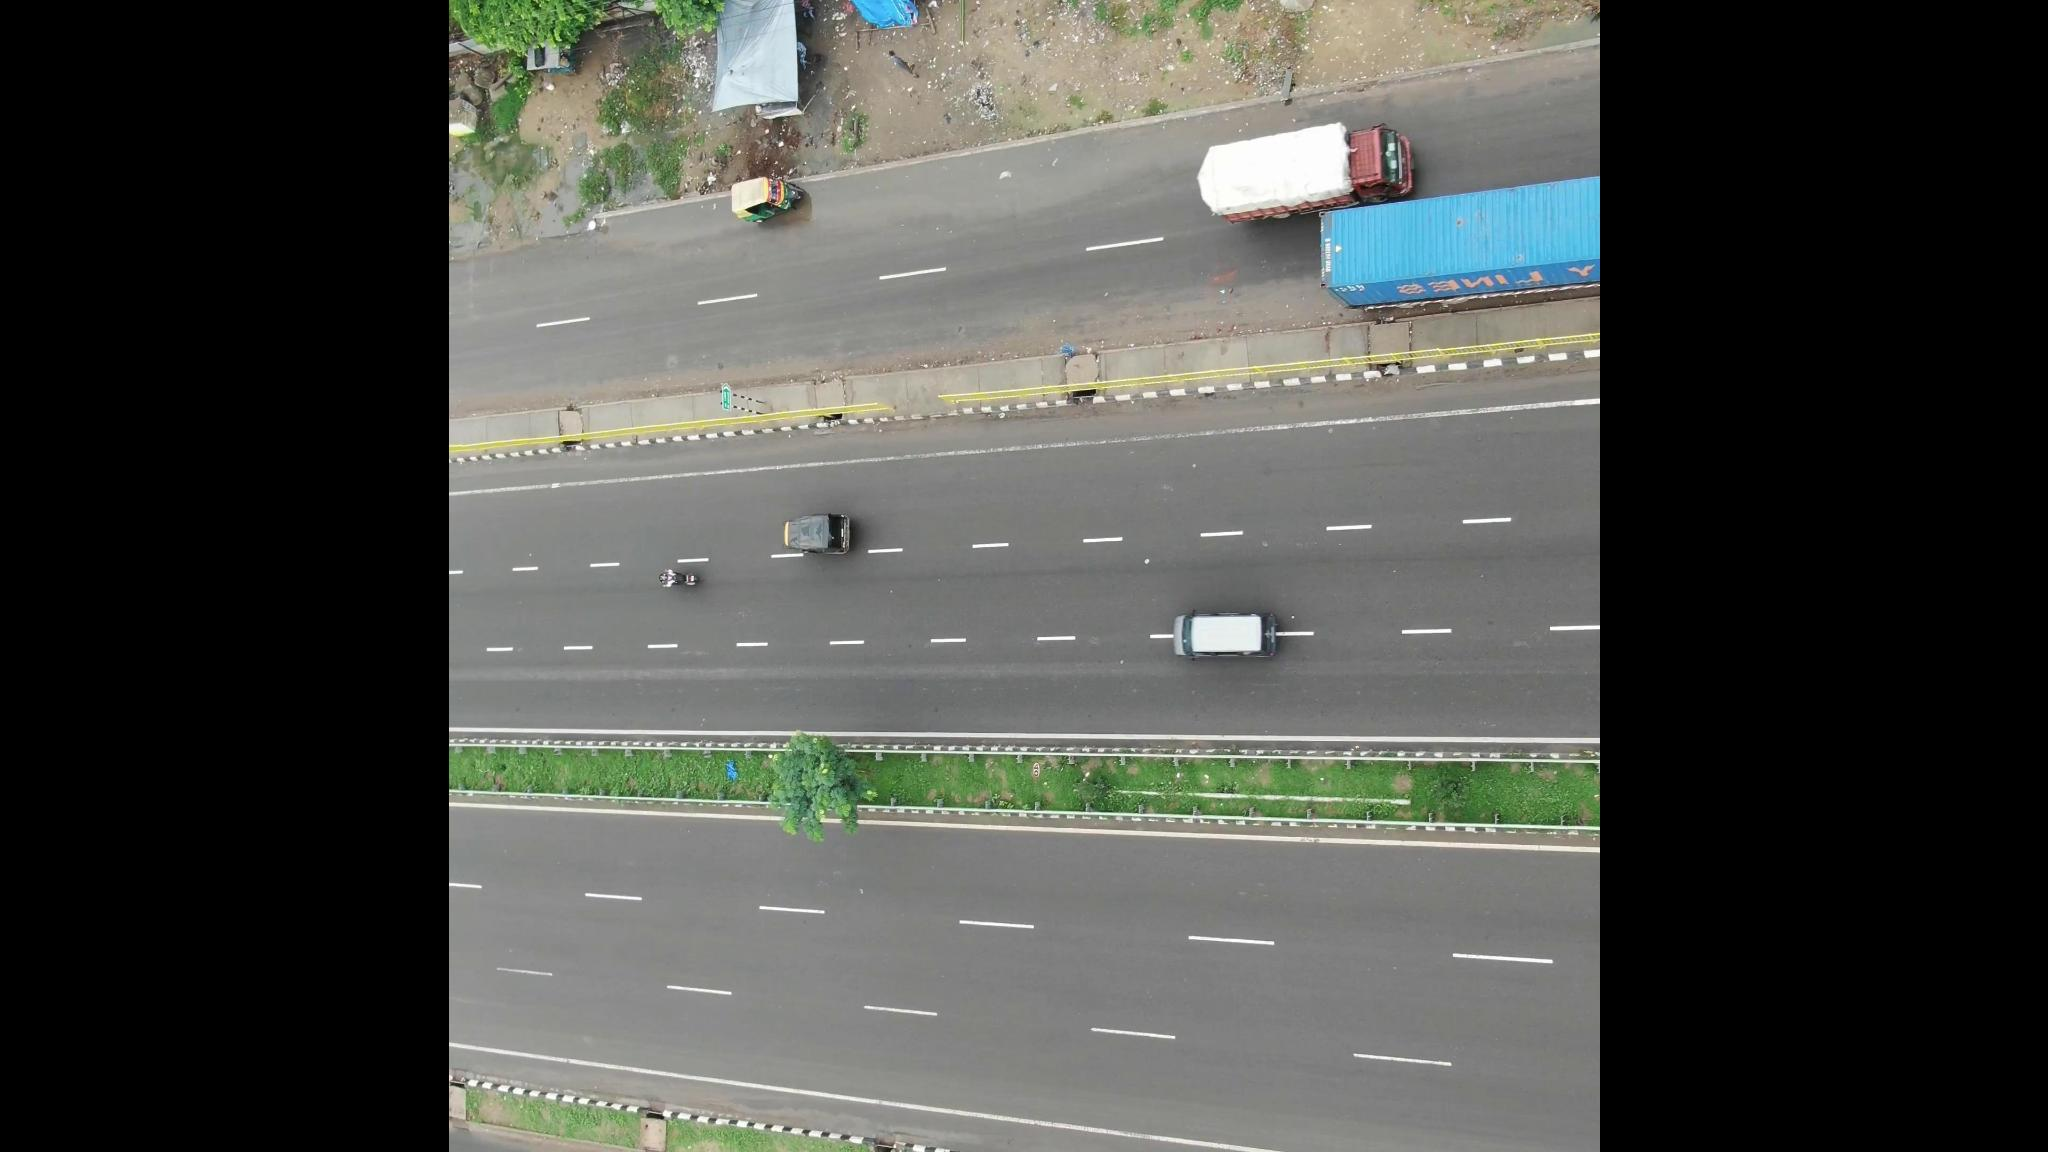Waterlogging: (888, 132, 1198, 226)
